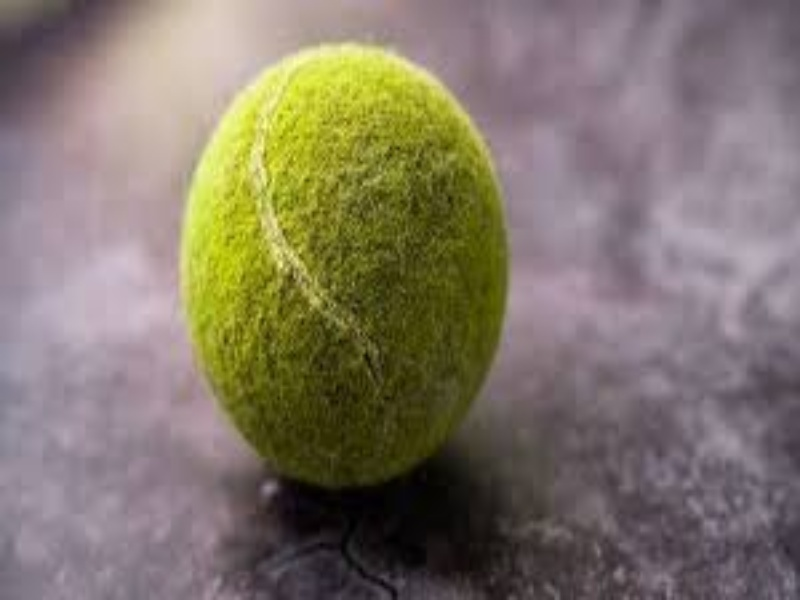tennis ball: (173, 24, 503, 494)
